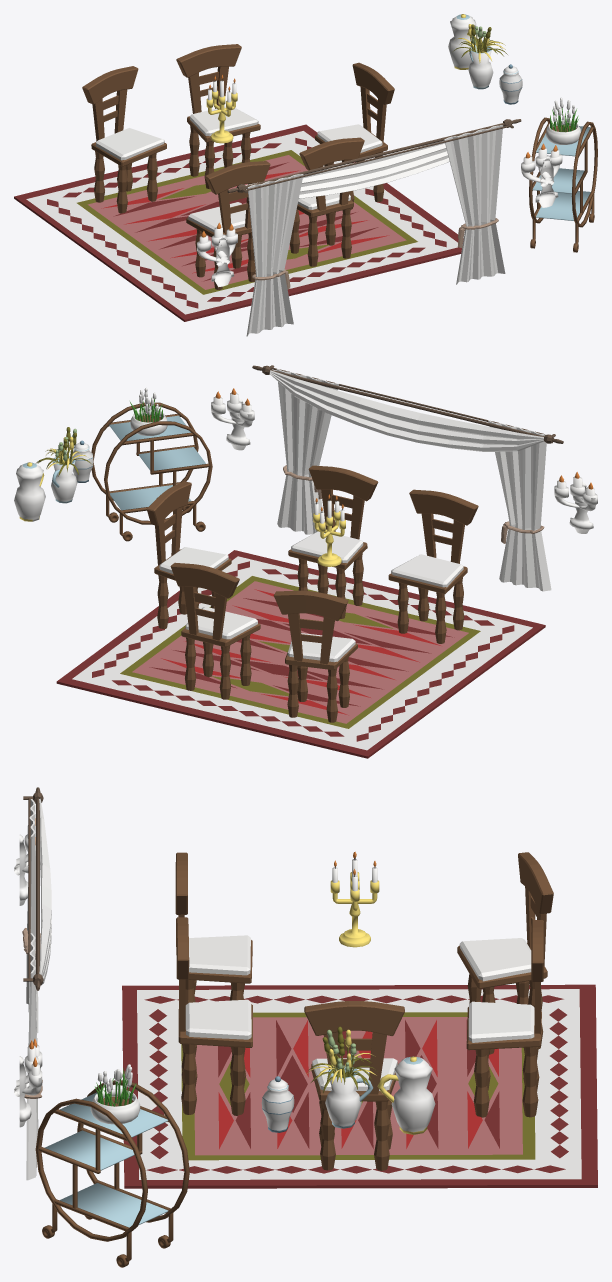
Rendered from DiningRoom_Furnitures.fbx.
The picture shows the model from 3 angles, top to bottom: view 1: azimuth 30°, elevation 25°; view 2: azimuth 150°, elevation 25°; view 3: azimuth 270°, elevation 25°; orthographic projection. The views are drawn at different scales.
Parts seen in each view (by area): view 1: Rug_Patterned_Rectangular, Curtains_Draped_Heavy, Dining Chair_Wooden.001, Dining Chair_Wooden.002, Sideboard_Cabinet, Vases_Decorative, Wall Sconce_CandleHolder, Candle Holder_Tabletop; view 2: Rug_Patterned_Rectangular, Dining Chair_Wooden.001, Curtains_Draped_Heavy, Sideboard_Cabinet, Dining Chair_Wooden.002, Vases_Decorative, Wall Sconce_CandleHolder, Candle Holder_Tabletop; view 3: Rug_Patterned_Rectangular, Dining Chair_Wooden.001, Sideboard_Cabinet, Vases_Decorative, Dining Chair_Wooden.002, Curtains_Draped_Heavy, Wall Sconce_CandleHolder, Candle Holder_Tabletop.
Part boxes in pixels (x1=…): Rug_Patterned_Rectangular: x1=14, y1=124, x2=463, y2=321; Curtains_Draped_Heavy: x1=227, y1=119, x2=521, y2=336; Dining Chair_Wooden.001: x1=176, y1=44, x2=394, y2=289; Dining Chair_Wooden.002: x1=82, y1=66, x2=166, y2=213; Sideboard_Cabinet: x1=529, y1=97, x2=597, y2=252; Vases_Decorative: x1=448, y1=14, x2=522, y2=104; Wall Sconce_CandleHolder: x1=197, y1=143, x2=562, y2=287; Candle Holder_Tabletop: x1=206, y1=74, x2=237, y2=143; Rug_Patterned_Rectangular: x1=56, y1=550, x2=545, y2=758; Dining Chair_Wooden.001: x1=146, y1=465, x2=478, y2=699; Curtains_Draped_Heavy: x1=252, y1=365, x2=563, y2=591; Sideboard_Cabinet: x1=91, y1=388, x2=212, y2=541; Dining Chair_Wooden.002: x1=273, y1=590, x2=357, y2=722; Vases_Decorative: x1=14, y1=427, x2=93, y2=521; Wall Sconce_CandleHolder: x1=211, y1=388, x2=597, y2=533; Candle Holder_Tabletop: x1=313, y1=494, x2=345, y2=566; Rug_Patterned_Rectangular: x1=122, y1=984, x2=597, y2=1188; Dining Chair_Wooden.001: x1=175, y1=852, x2=543, y2=1170; Sideboard_Cabinet: x1=35, y1=1064, x2=189, y2=1267; Vases_Decorative: x1=261, y1=1026, x2=435, y2=1134; Dining Chair_Wooden.002: x1=457, y1=852, x2=553, y2=1054; Curtains_Draped_Heavy: x1=22, y1=787, x2=51, y2=1180; Wall Sconce_CandleHolder: x1=14, y1=818, x2=42, y2=1127; Candle Holder_Tabletop: x1=330, y1=851, x2=379, y2=947.
Bounding box in the file's own units: 3245 × 1109 × 2665.
